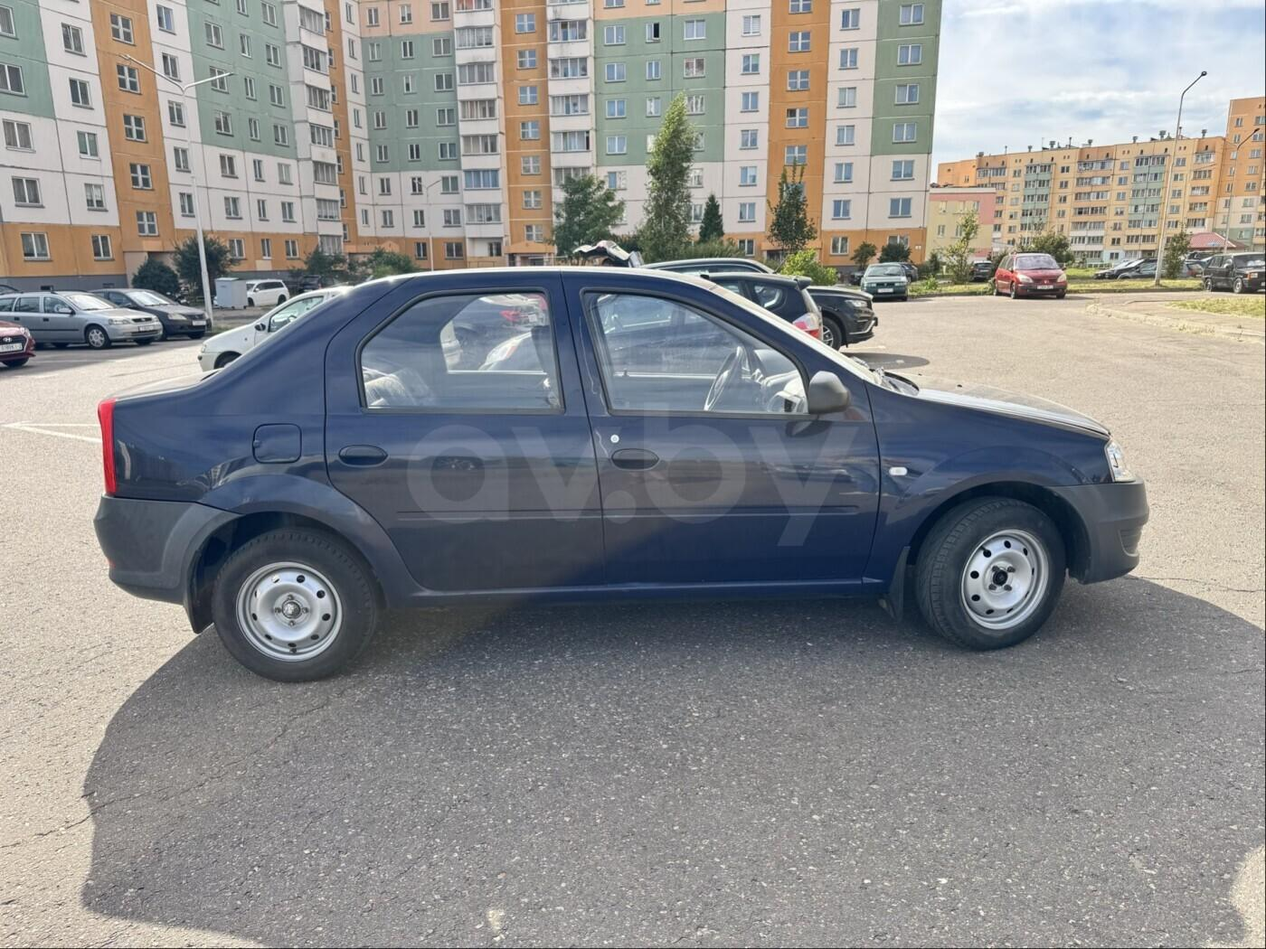Logan_2008-2015: (87, 257, 1156, 677)
